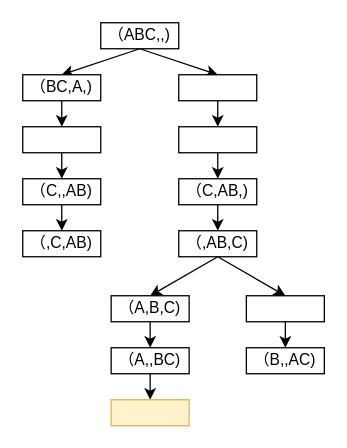
Image size: 347x448. Some labels were removed from this diagram. The shapes that lost their labels are listed below. From the top down, each one's box as (x1, y1, x2, y2) in pixels, then its label:
(177, 73, 257, 101): （BC,,A)
(21, 125, 101, 153): （C,A,B)
(177, 125, 257, 153): （C,B,A)
(245, 294, 324, 322): （,B,AC)
(110, 398, 189, 426): （,,ABC)
